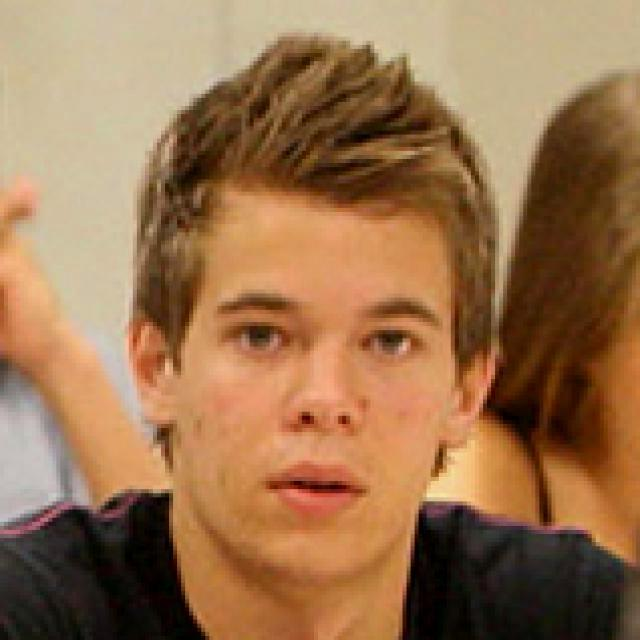Looking forward: (176, 192, 462, 582)
